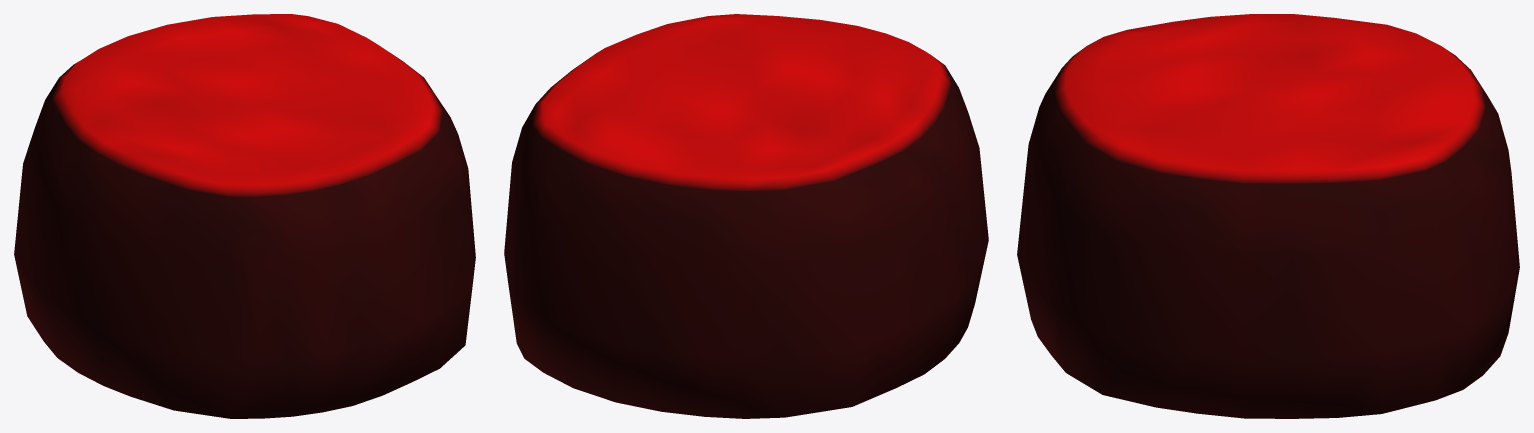
The model's file is geology-landforms-iceplateautiny_v1.fbx.
3 views of the same model, side by side, from view 1: azimuth 30°, elevation 25°; view 2: azimuth 150°, elevation 25°; view 3: azimuth 270°, elevation 25° (orthographic). The views are drawn at different scales.
Visible parts, largest first — view 1: IcePlateauTiny_v1; view 2: IcePlateauTiny_v1; view 3: IcePlateauTiny_v1.
Part boxes in pixels (x1,y1,x2,y2): IcePlateauTiny_v1: (14,14,475,418); IcePlateauTiny_v1: (504,14,988,418); IcePlateauTiny_v1: (1017,14,1519,418).
Bounding box in the file's own units: 27.6 × 15.04 × 29.49.
